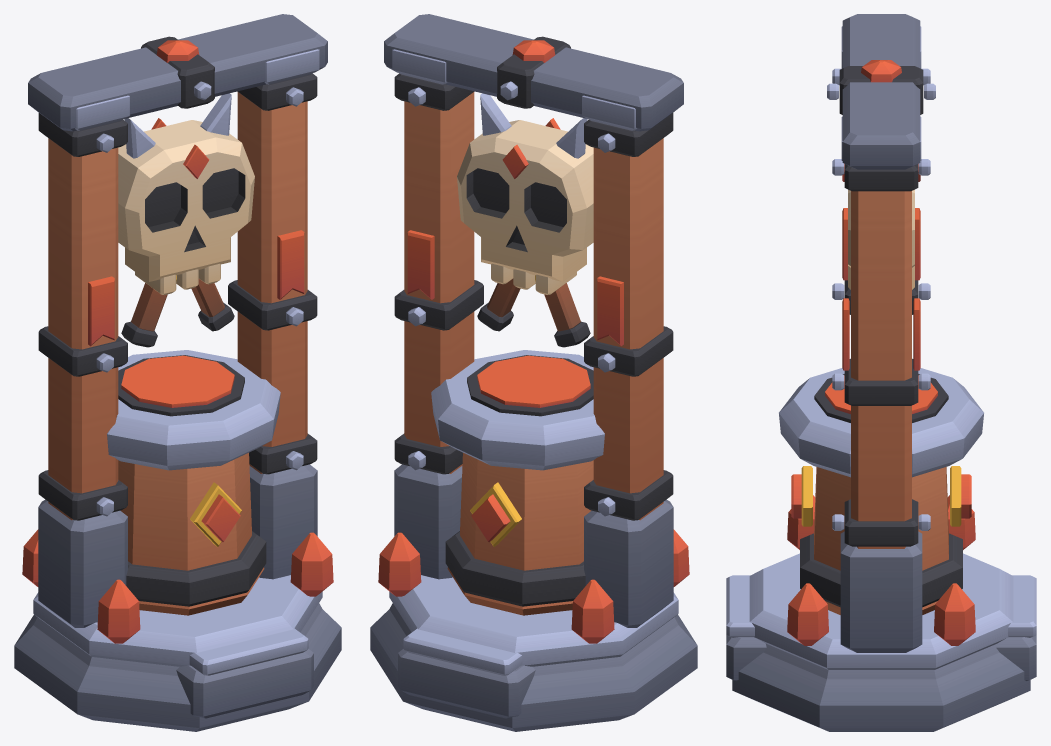
File: skull_column.glb
The picture shows the model from 3 angles, left to right: view 1: azimuth 30°, elevation 25°; view 2: azimuth 150°, elevation 25°; view 3: azimuth 270°, elevation 25°; orthographic projection. The views are drawn at different scales.
Parts seen in each view (by area): view 1: challenge_shrine_body, challenge_shrine_blessing; view 2: challenge_shrine_body, challenge_shrine_blessing; view 3: challenge_shrine_body, challenge_shrine_blessing.
Part boxes in pixels (bbox=[...]): challenge_shrine_body: bbox=[14, 14, 341, 731]; challenge_shrine_blessing: bbox=[118, 93, 254, 347]; challenge_shrine_body: bbox=[370, 14, 697, 731]; challenge_shrine_blessing: bbox=[457, 93, 593, 347]; challenge_shrine_body: bbox=[726, 14, 1036, 731]; challenge_shrine_blessing: bbox=[842, 164, 920, 289].
Bounding box in the file's own units: 1.44 × 3.25 × 1.48.
Materials: 1 (1 with a texture image).
